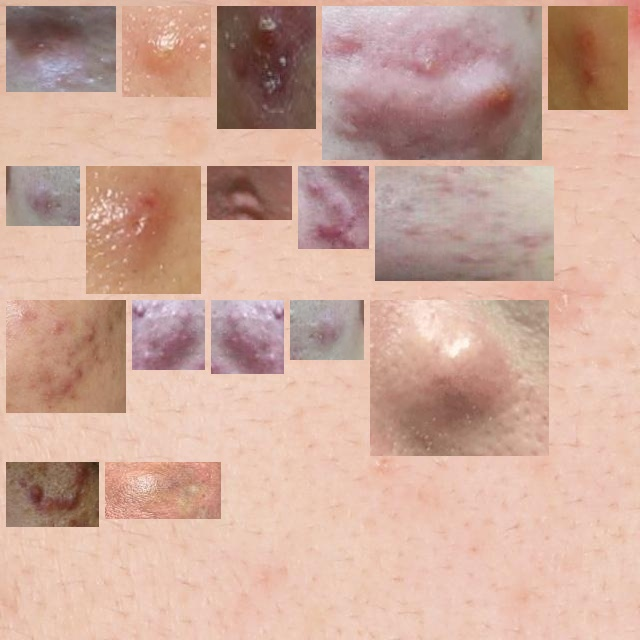nodule: (330, 14, 534, 152), (378, 308, 541, 448), (383, 174, 546, 273), (94, 174, 193, 286), (14, 308, 118, 405), (225, 14, 308, 121), (14, 14, 108, 84), (556, 14, 620, 102), (130, 14, 203, 89), (113, 470, 213, 511), (14, 470, 91, 519), (306, 174, 361, 241), (219, 308, 276, 366), (140, 308, 197, 362), (215, 174, 284, 212), (14, 174, 72, 218), (298, 308, 356, 352)
